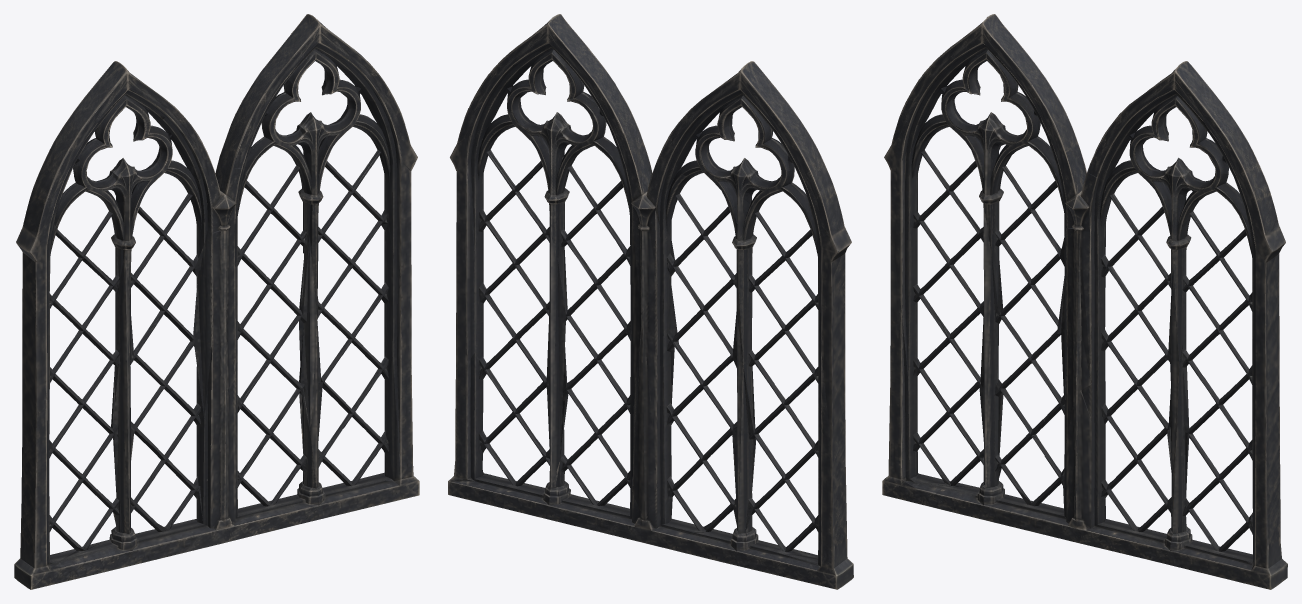
File: window_gothic_double.glb
3 views of the same model, side by side, from view 1: azimuth 30°, elevation 25°; view 2: azimuth 150°, elevation 25°; view 3: azimuth 330°, elevation 25° (orthographic).
Parts seen in each view (by area): view 1: output_unwrapped; view 2: output_unwrapped; view 3: output_unwrapped.
Part boxes in pixels (x1,y1,x2,y2): output_unwrapped: (14, 14, 419, 589); output_unwrapped: (448, 14, 853, 589); output_unwrapped: (882, 14, 1287, 589).
Size of the model in its own units: 1.57 by 1.9 by 0.1687.
Materials: 1 (1 with a texture image).
